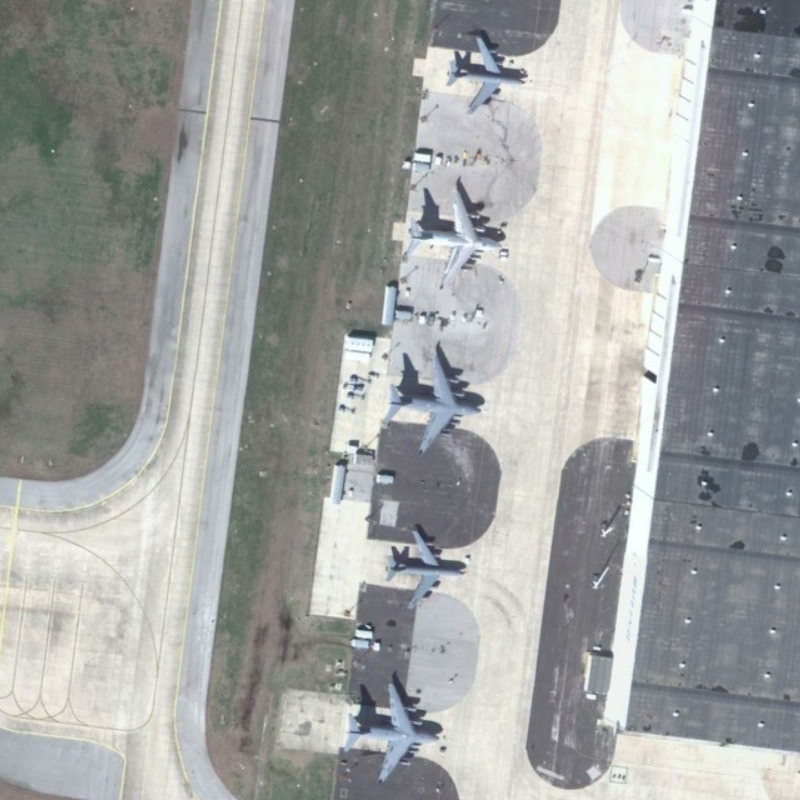A14: (377, 521, 471, 613), (438, 25, 532, 112)
A3: (332, 676, 454, 789), (371, 344, 486, 461), (400, 177, 511, 294)
